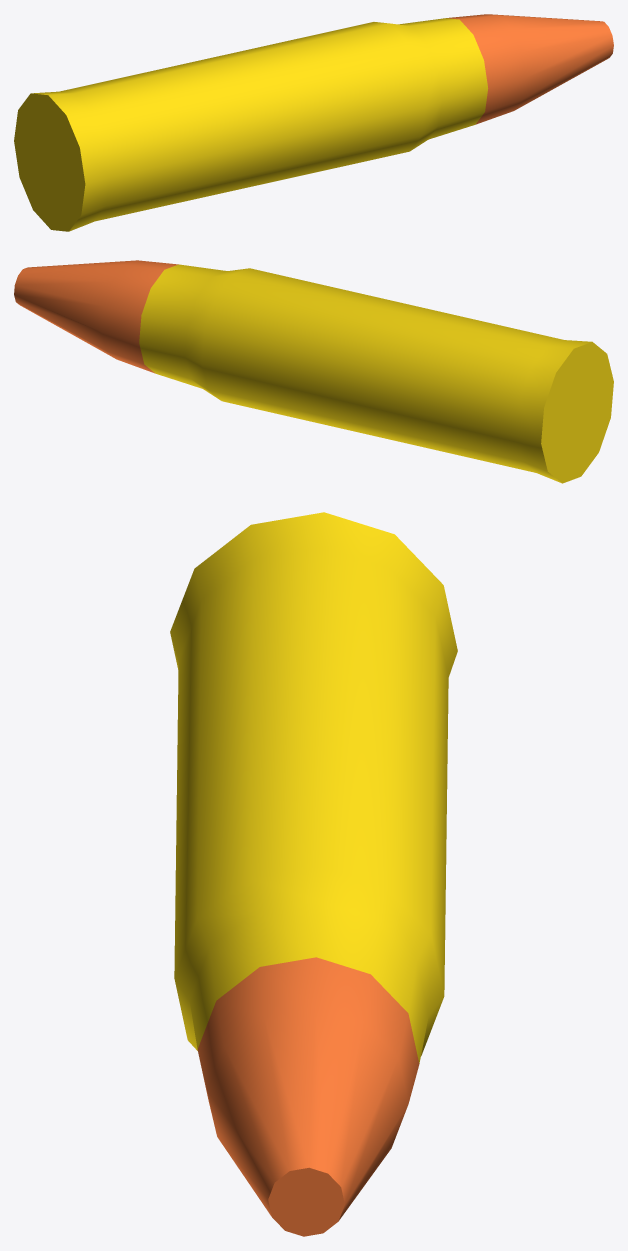
The model's file is ak_47_bullet.fbx.
3 views of the same model, one above another, from view 1: azimuth 30°, elevation 25°; view 2: azimuth 150°, elevation 25°; view 3: azimuth 270°, elevation 25° (orthographic). The views are drawn at different scales.
Visible parts, largest first — view 1: ak_47_bullet; view 2: ak_47_bullet; view 3: ak_47_bullet.
Boxes of the visible parts, x1,y1,x2,y2 form: ak_47_bullet: (14,14,613,231); ak_47_bullet: (14,260,613,483); ak_47_bullet: (170,512,457,1236).
Bounding box in the file's own units: 29.51 × 6.76 × 6.64.
